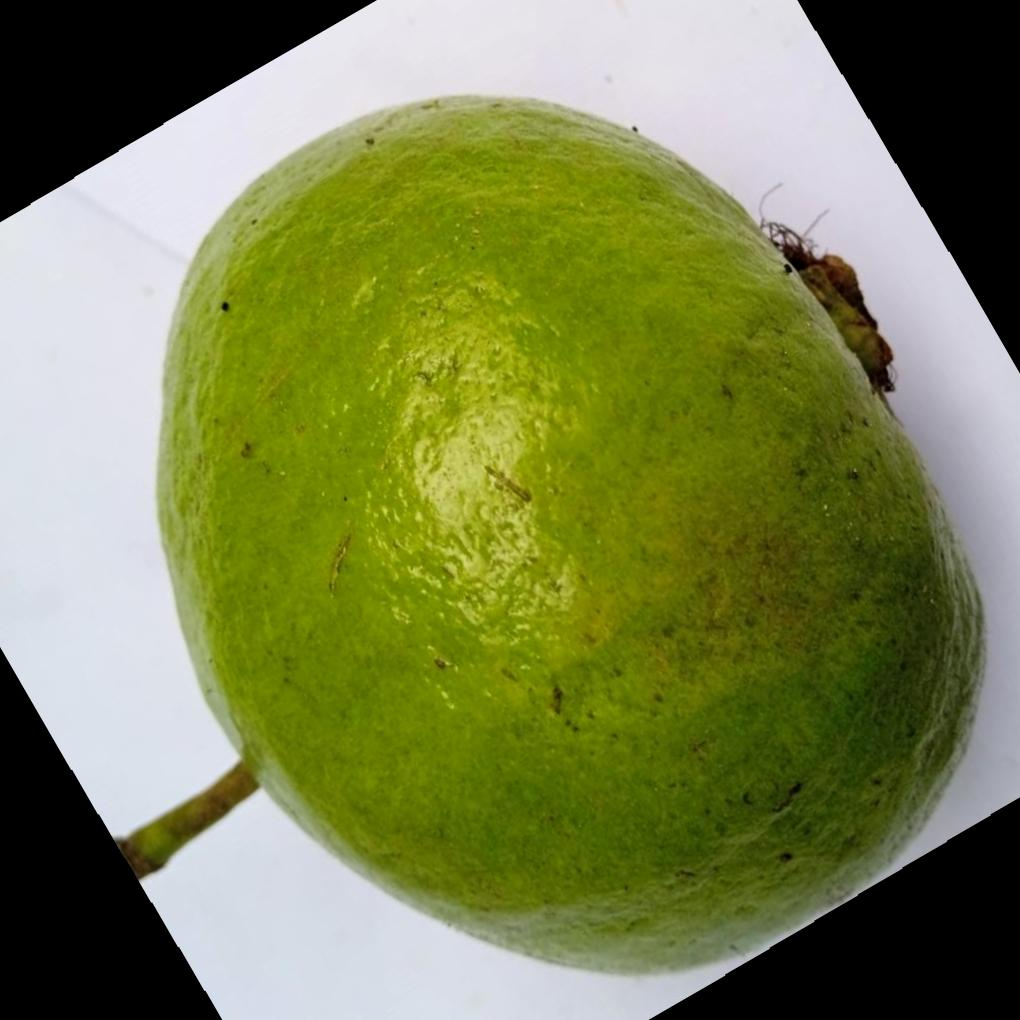FreshGuava: (154, 90, 988, 975)
